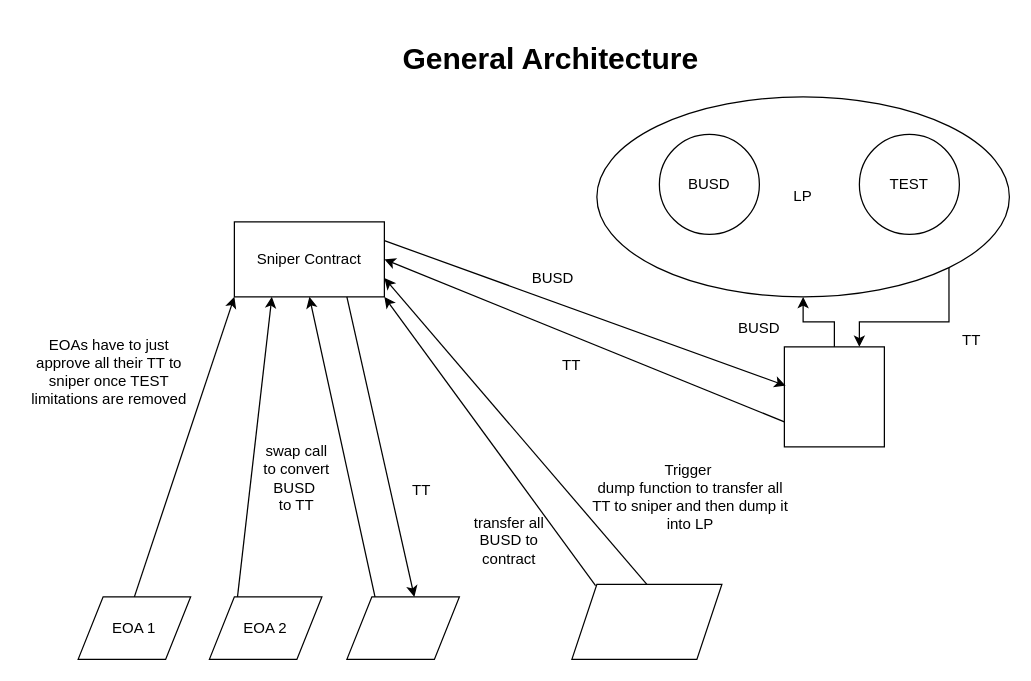
Some shapes in this 1031 by 681 pixel diagram are drawn without their labels. The centre of each missing label's shape, as x and y in pixels:
"EOA 3" belongs at point 402,627.
"Uniswap" belongs at point 833,396.
"User A" belongs at point 646,621.
